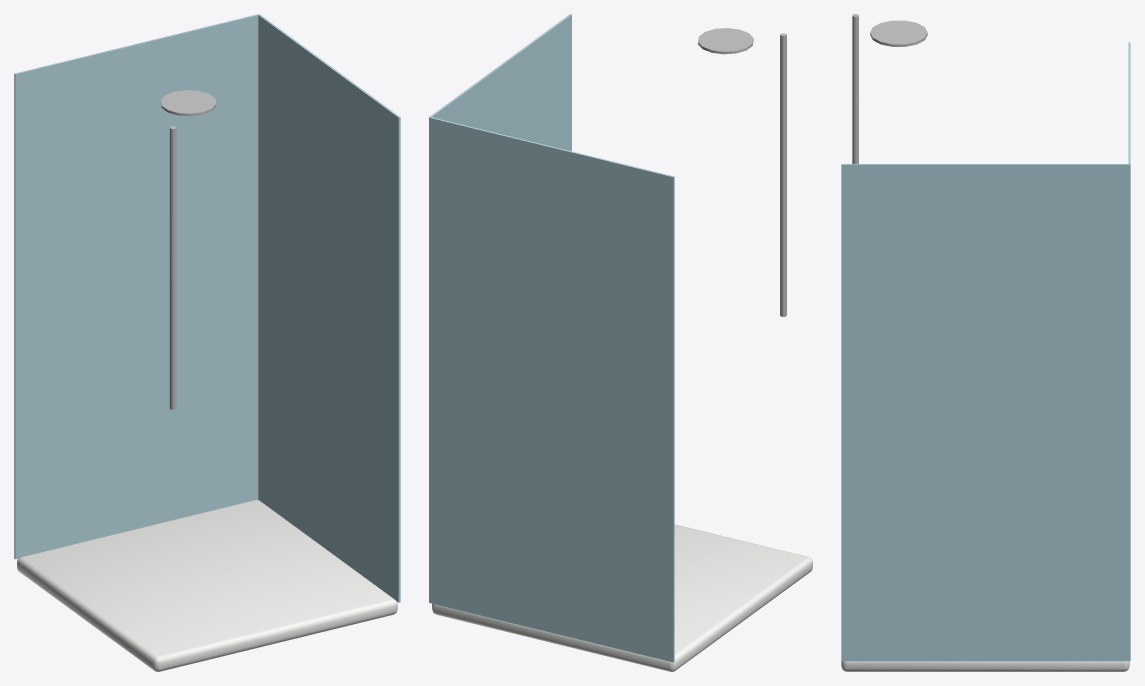
The model's file is home.bath.shower_enclosure_1000.glb.
The picture shows the model from 3 angles, left to right: view 1: azimuth 30°, elevation 25°; view 2: azimuth 150°, elevation 25°; view 3: azimuth 270°, elevation 25°; orthographic projection. The views are drawn at different scales.
Visible parts, largest first — view 1: main__glass, main__ceramic, main__steel_stainless; view 2: main__glass, main__ceramic, main__steel_stainless; view 3: main__glass, main__ceramic, main__steel_stainless.
Boxes of the visible parts, x1,y1,x2,y2 form: main__glass: (14, 14, 400, 602); main__ceramic: (17, 500, 397, 671); main__steel_stainless: (160, 90, 216, 409); main__glass: (429, 14, 674, 662); main__ceramic: (432, 524, 812, 671); main__steel_stainless: (698, 28, 786, 316); main__glass: (841, 42, 1130, 661); main__ceramic: (841, 661, 1129, 671); main__steel_stainless: (852, 14, 927, 163).
Size of the model in its own units: 1 by 2.11 by 1.
